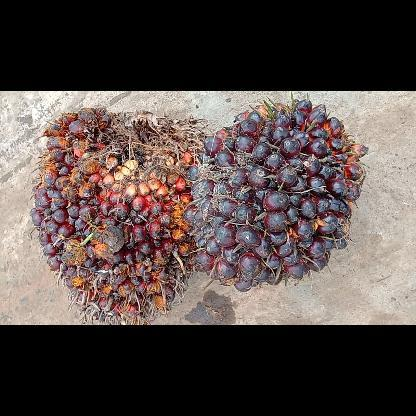TBS masak: (30, 108, 204, 324)
TBS mentah: (183, 91, 365, 290)
